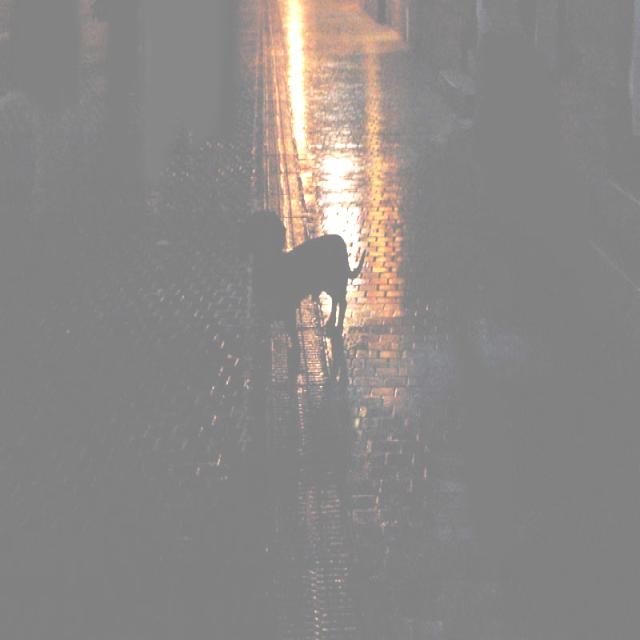Dog: (260, 205, 399, 409)
